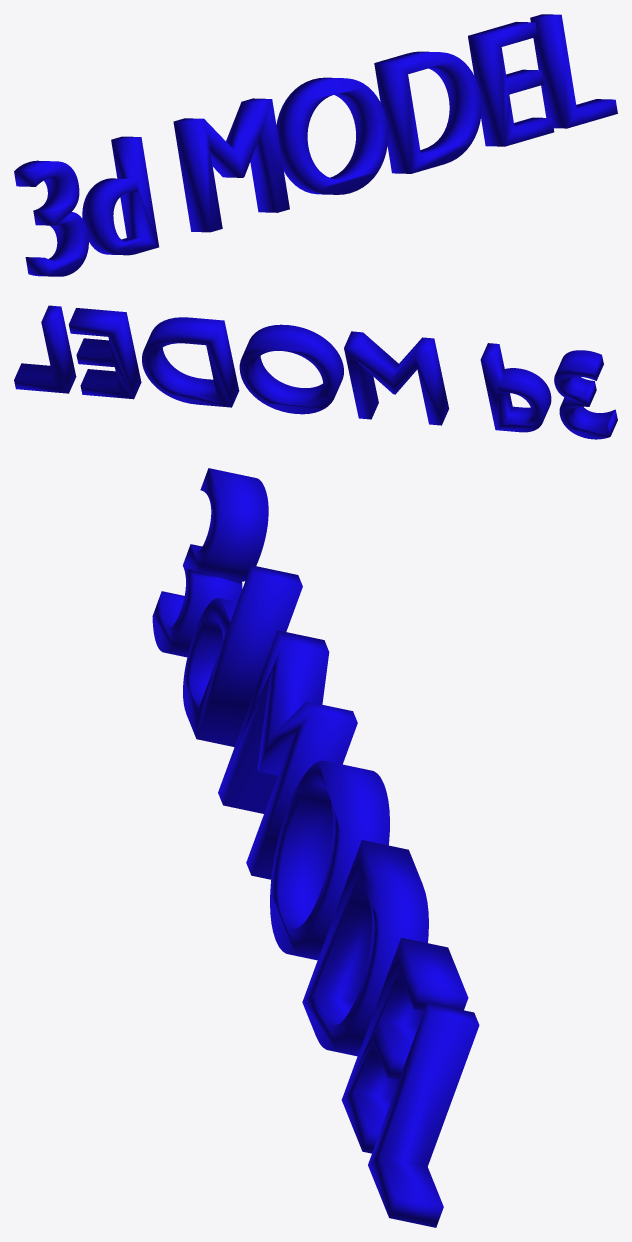
File: bebrik.glb
The picture shows the model from 3 angles, top to bottom: view 1: azimuth 30°, elevation 25°; view 2: azimuth 150°, elevation 25°; view 3: azimuth 270°, elevation 25°; orthographic projection. The views are drawn at different scales.
Visible parts, largest first — view 1: D0; view 2: D0; view 3: D0.
Part boxes in pixels (bbox=[...]): D0: bbox=[14, 14, 617, 276]; D0: bbox=[14, 305, 617, 439]; D0: bbox=[152, 468, 479, 1227].
Bounding box in the file's own units: 18.73 × 4.12 × 4.91.
